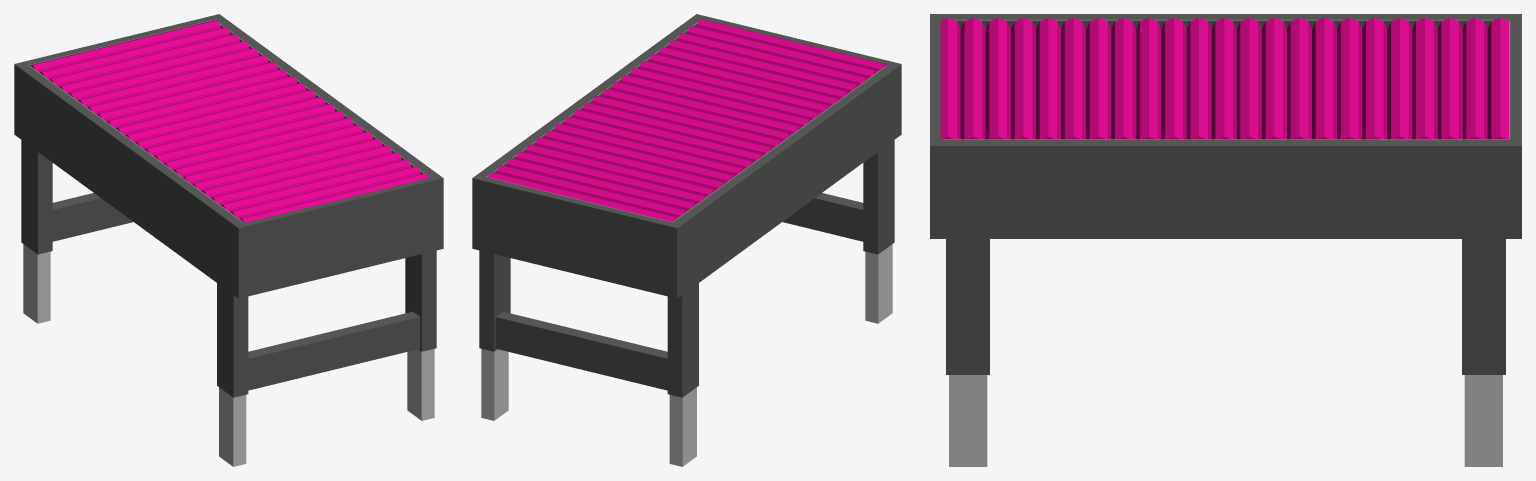
Rendered from secondtable.fbx.
3 views of the same model, side by side, from view 1: azimuth 30°, elevation 25°; view 2: azimuth 150°, elevation 25°; view 3: azimuth 270°, elevation 25° (orthographic). The views are drawn at different scales.
Visible parts, largest first — view 1: Table Legs; view 2: Table Legs; view 3: Table Legs.
Boxes of the visible parts, bbox=[...] form: Table Legs: bbox=[14, 14, 443, 466]; Table Legs: bbox=[472, 14, 901, 466]; Table Legs: bbox=[930, 14, 1521, 466].
Bounding box in the file's own units: 57 × 65.47 × 108.
2 materials, 1 textured.
